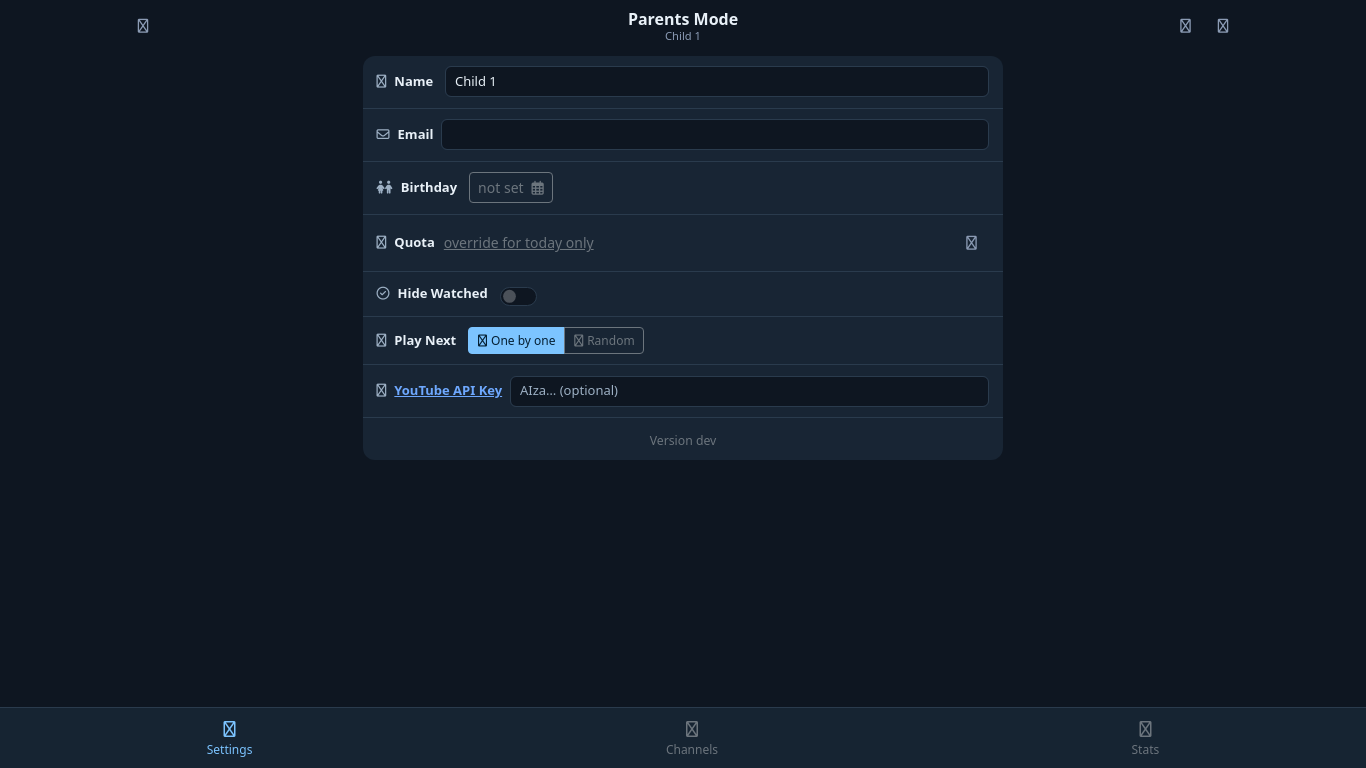
Test: the Channels tab › has no Browser tab, and search lives with the approved list
Click the button "Channels".
click(692, 738)  # box [459, 708, 925, 767]
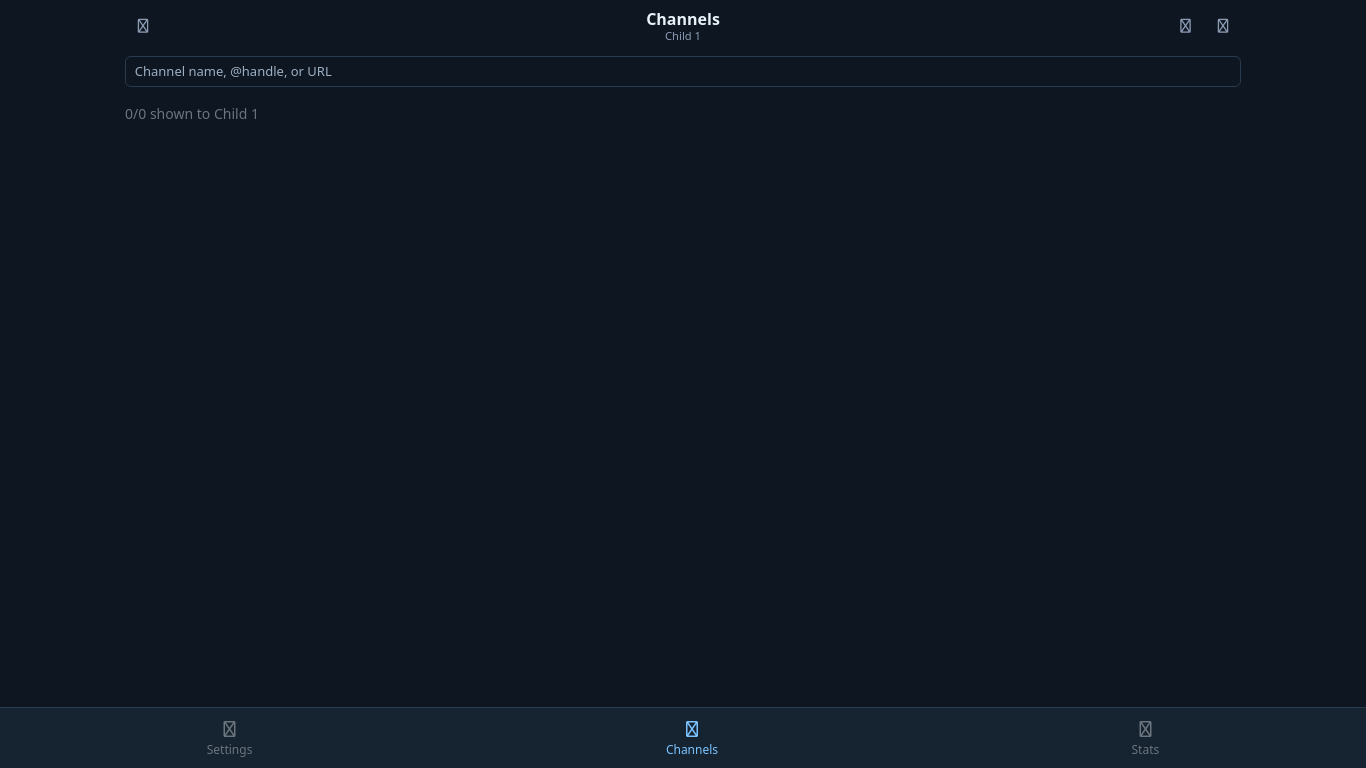
Expected: the heading "Channels" is shown, [646, 10, 720, 29]
Expected: the field named "Find a channel" is shown, [125, 56, 1241, 87]
Expected: the link titled "YouTube" is gone
